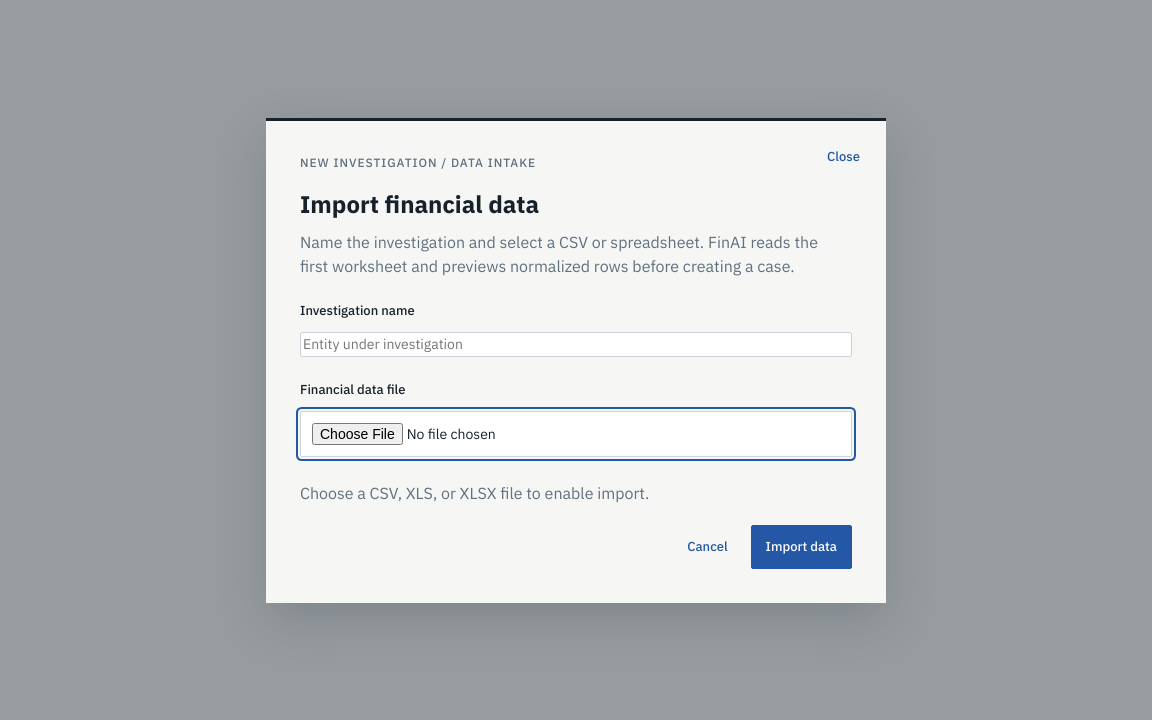
Test case: ImportDialog › reports why nothing happened when imported with no file selected
Click the button "Import data": (801, 546) [751, 524, 852, 568]
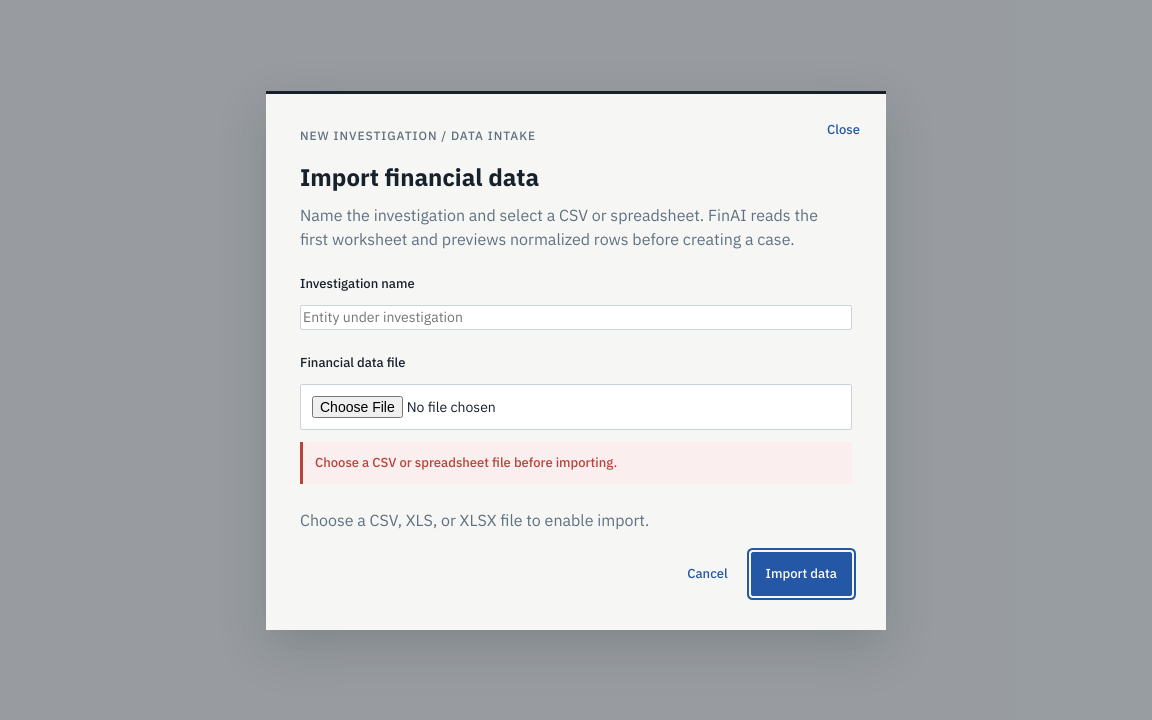
Check: the message shows "Choose a CSV or spreadsheet file before importing", box [315, 454, 617, 470]
